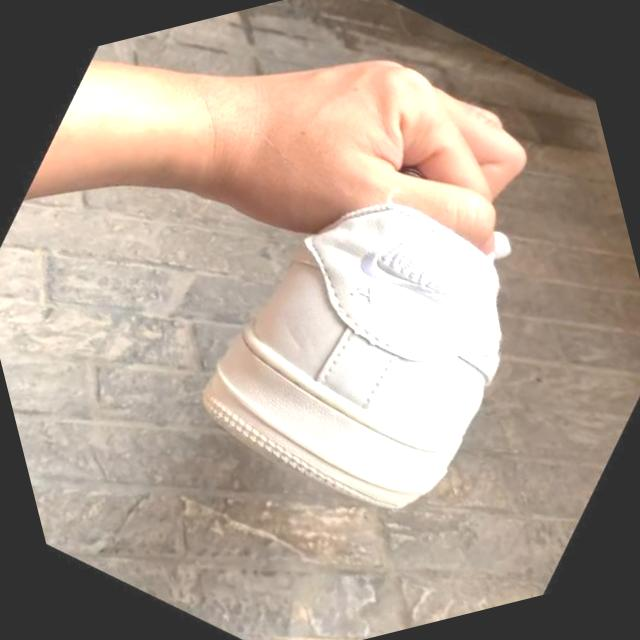nike_fake_airforce: (123, 53, 640, 582)
